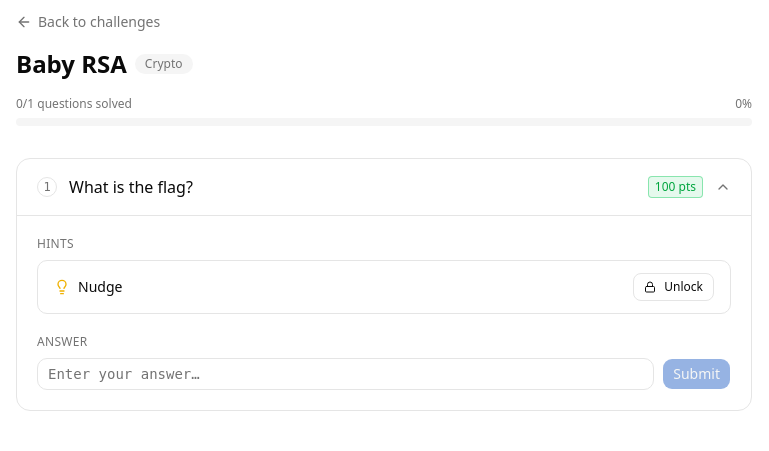
shows an unlocked hint without reloading the challenge
Click the button "Unlock" at (674, 287), box top-left (633, 273), bottom-right (714, 301)
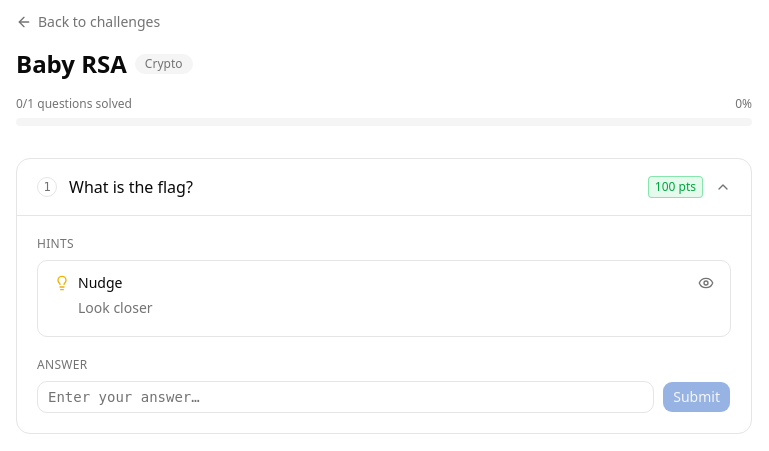
Result: the text "Look closer" is shown at top-left (78, 298), bottom-right (153, 317)
